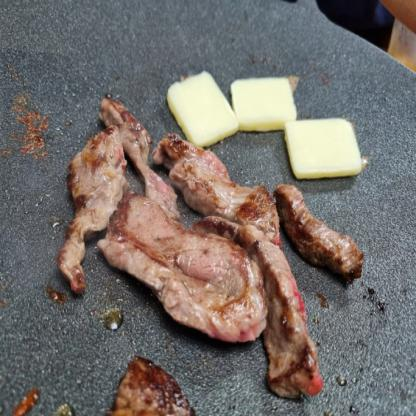Carne: (52, 124, 336, 382), (266, 176, 375, 290)
